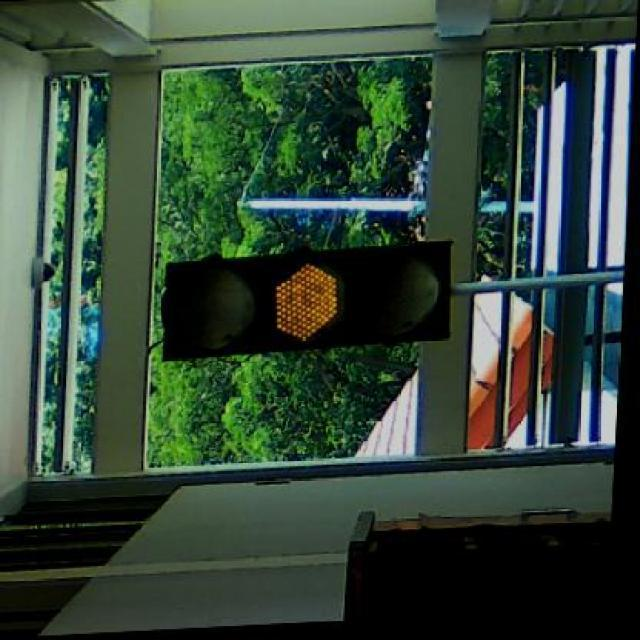yellow_light: (166, 230, 459, 356)
